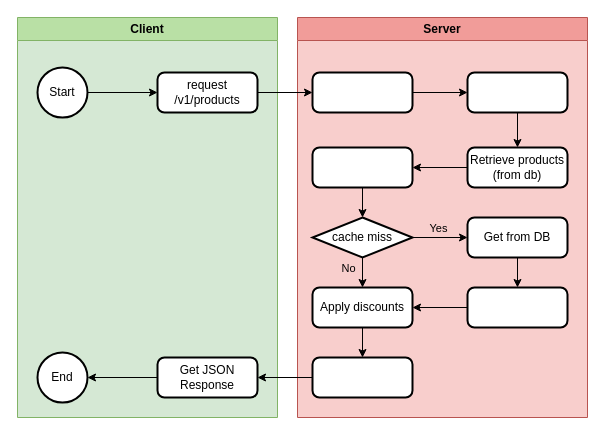
This 605x435 diagram has some shape labels left out. The centre of each missing label's shape, as x and y in pixels:
"Apply Filters and Pagination" belongs at [517,92].
"Create response (with Pagination)" belongs at [362,377].
"Decode Cursors" belongs at [362,92].
"Populate Cache" belongs at [517,307].
"Retrieve cached discounts" belongs at [362,167].
